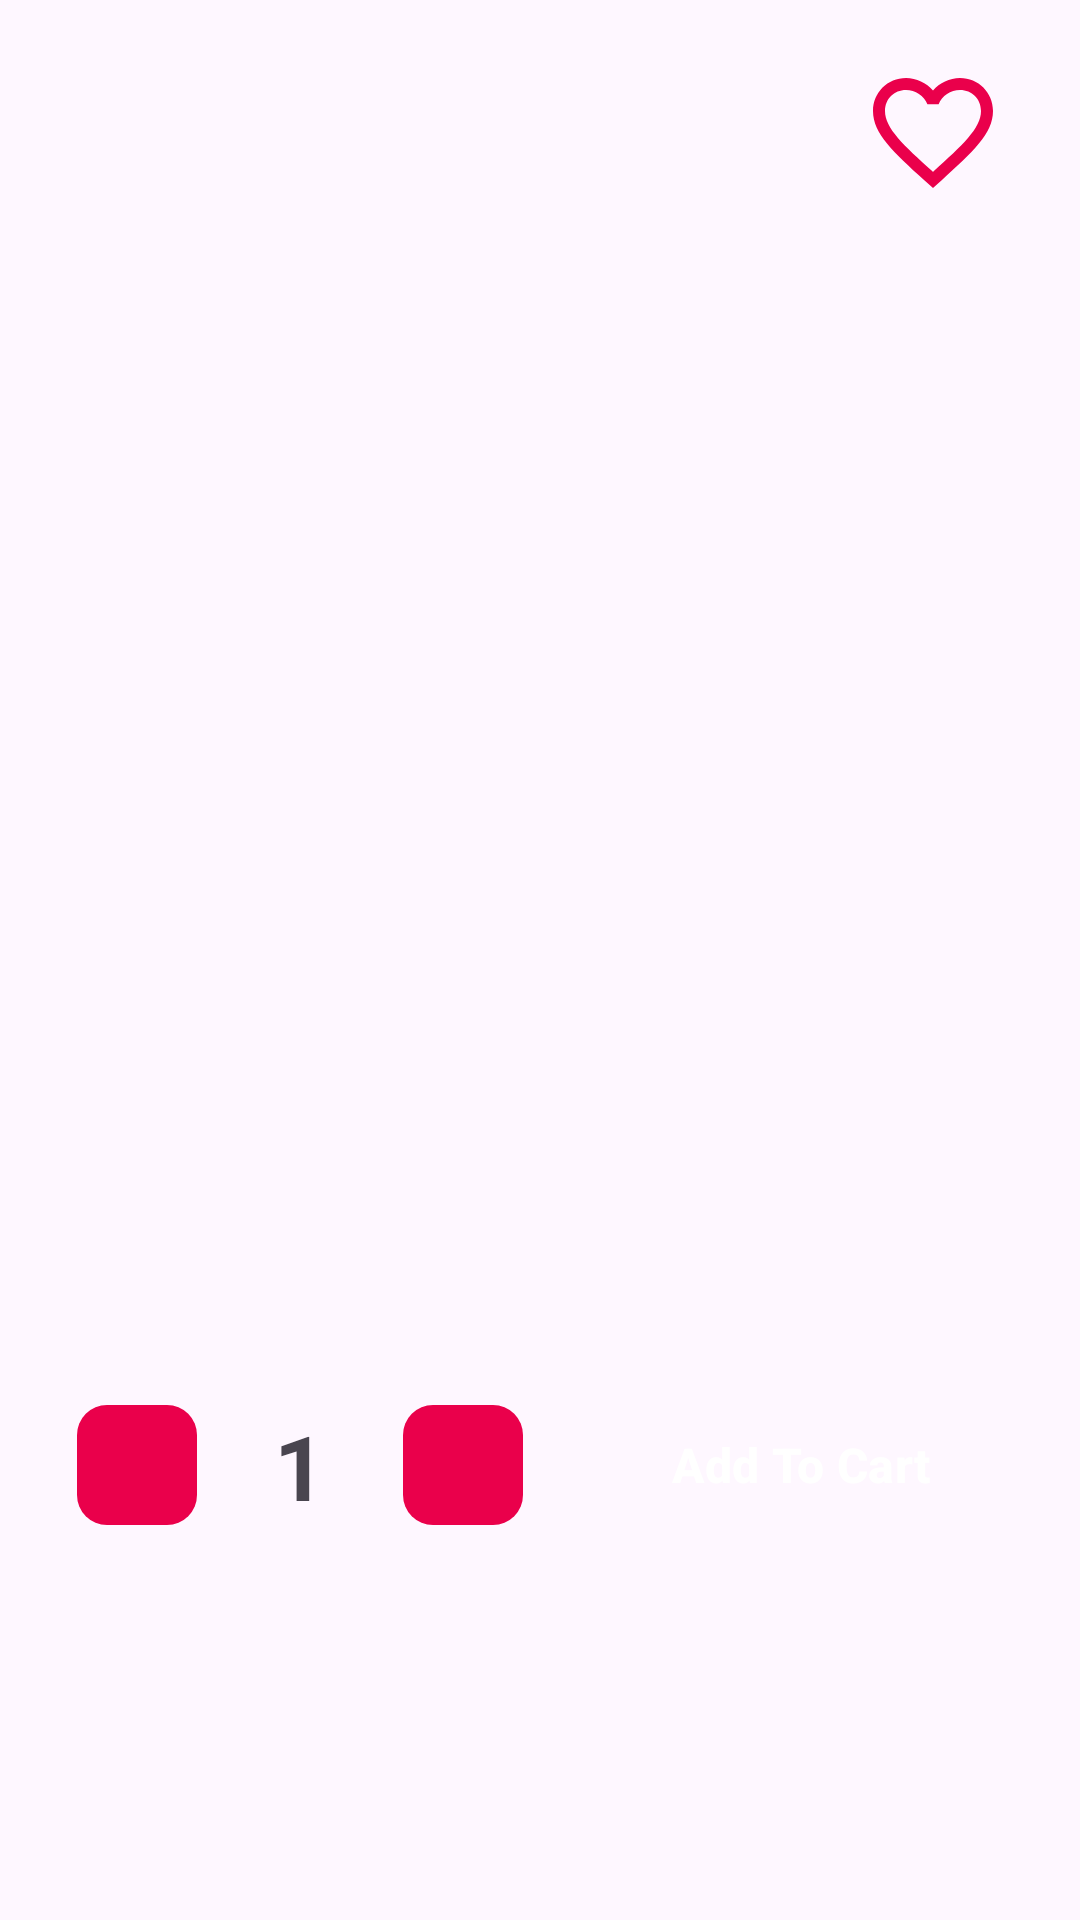

Where icons sit on this 1080px×1920px app screen, as (x1, y1, x2, y2):
food favourite false: (873, 78, 993, 188)
